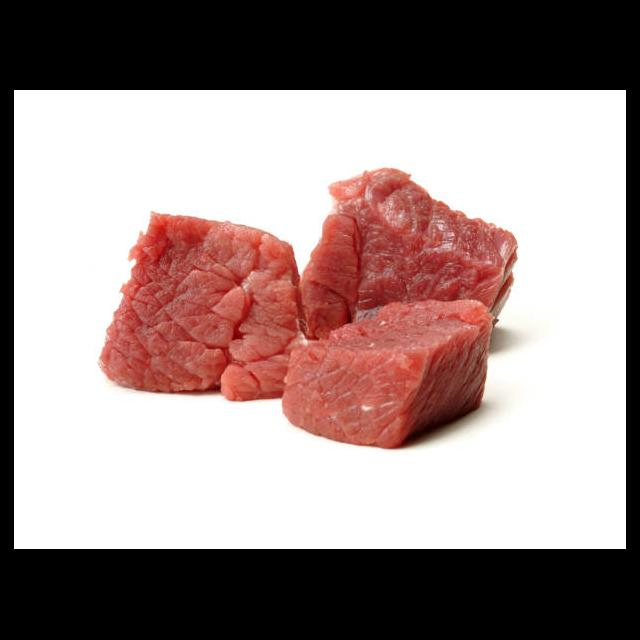beef: (100, 212, 302, 401), (302, 170, 520, 342), (282, 299, 496, 448)
